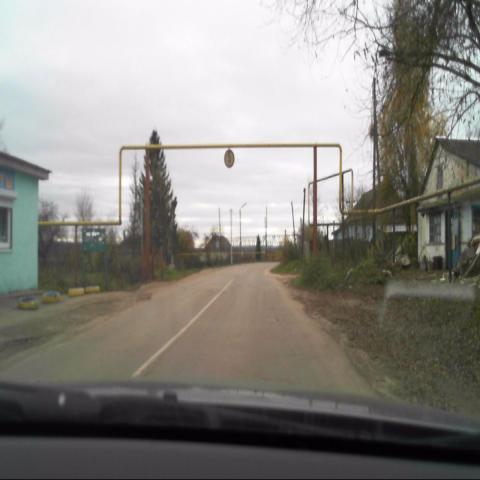3_24: (222, 147, 236, 170)
